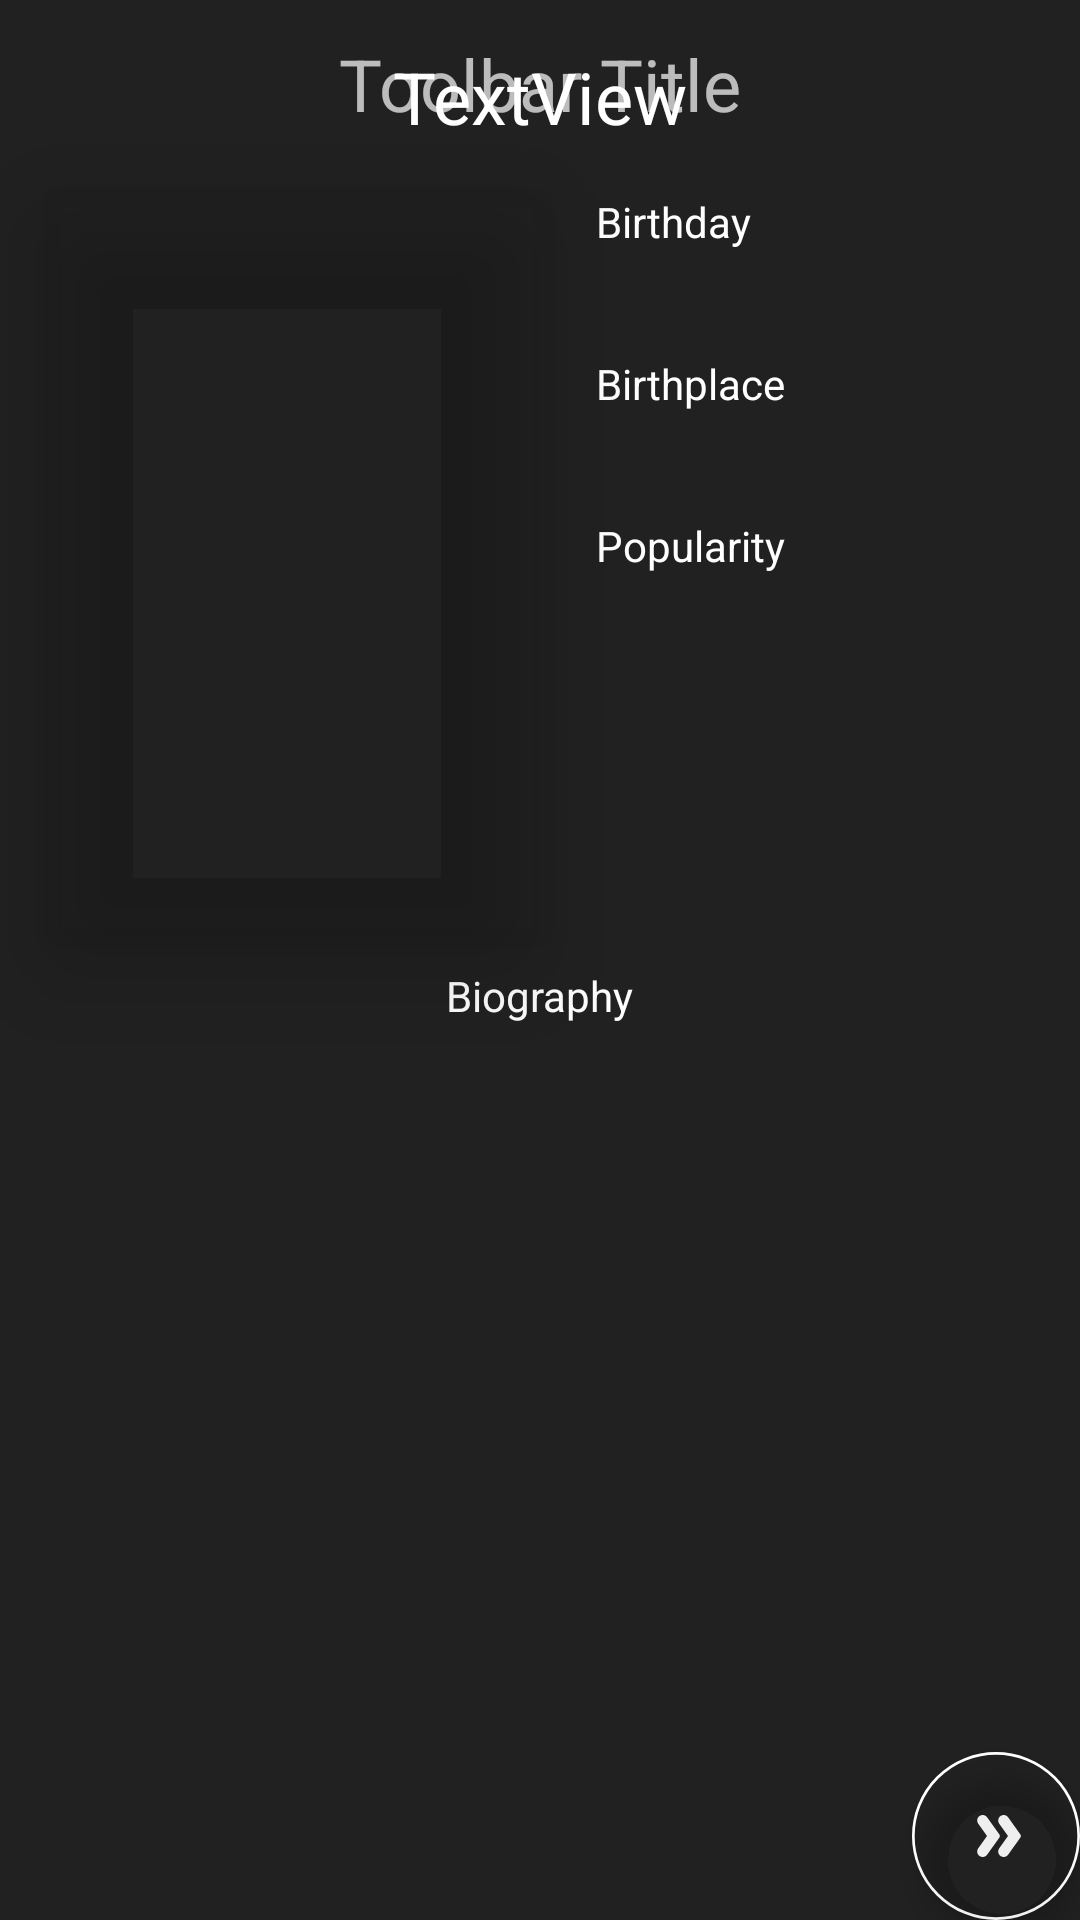

Where to tap for icons on this 1080x1920 app screen, as (x=x, y=y):
double arrow: (x=996, y=1836)
